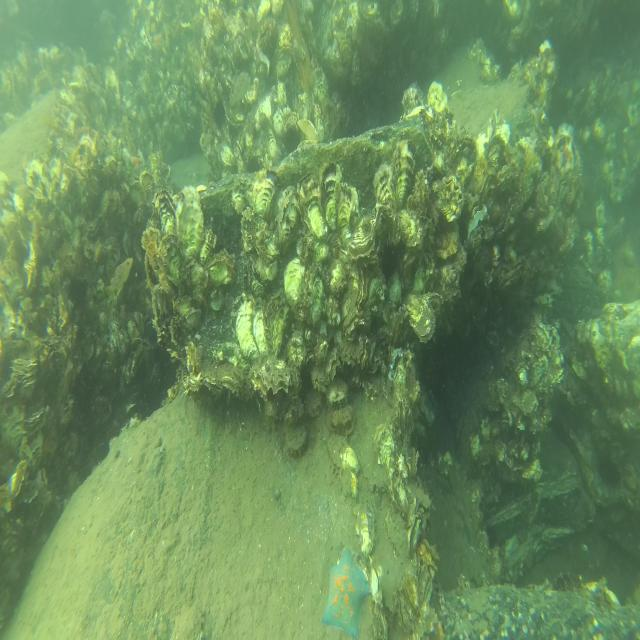echinus: (379, 240, 399, 281), (283, 124, 302, 153), (213, 100, 226, 128), (245, 153, 262, 174)
starfish: (323, 543, 371, 640), (129, 155, 143, 176)
